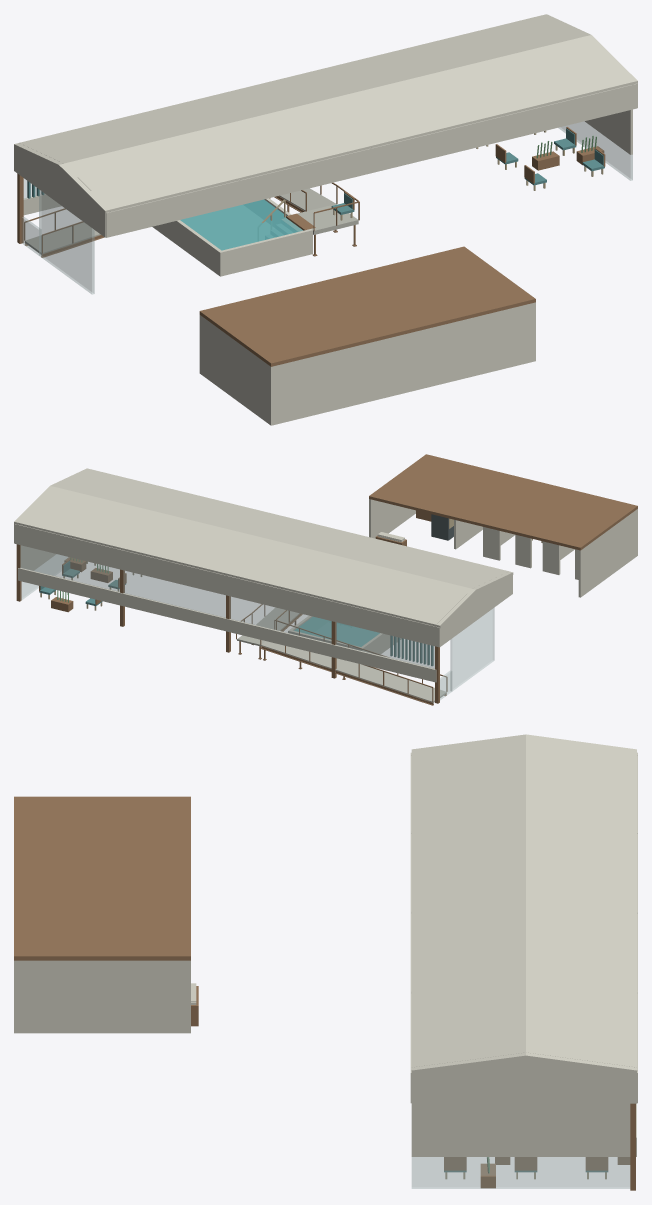
The model's file is VIP_QUIET_FITTED_r006.glb.
3 views of the same model, one above another, from view 1: azimuth 30°, elevation 25°; view 2: azimuth 150°, elevation 25°; view 3: azimuth 270°, elevation 25° (orthographic). The views are drawn at different scales.
Visible parts, largest first — view 1: F006__G2VIP_QUIET_RoofPanel1, F006__G2VIP_QUIET_AftRoof, F006__G2VIP_QUIET_RoofPanel0, F006__G2VIP_QUIET_AftBack, QUIET_F006_Weather_Aft, F006__G2VIP_QUIET_AftWest, QUIET_F006_InnerWallBody, QUIET_F006_Water_Illustrative, QUIET_F006_TankAft, QUIET_F006_Weather_Side-1Aft, QUIET_F006_OuterWallLower, QUIET_F006_TankWest (+5 smaller); view 2: F006__G2VIP_QUIET_RoofPanel0, F006__G2VIP_QUIET_AftRoof, F006__G2VIP_QUIET_RoofPanel1, F006__G2VIP_QUIET_ForeClerestory, QUIET_F006_Weather_Fore, F006__G2VIP_QUIET_ForePlinth, F006__G2VIP_QUIET_AftWest, QUIET_F006_InnerWallBody, QUIET_F006_RampLeg1, QUIET_F006_Water_Illustrative, F006__G2VIP_QUIET_AftEast, QUIET_F006_Weather_Side-1Aft (+10 smaller); view 3: F006__G2VIP_QUIET_RoofPanel1, F006__G2VIP_QUIET_RoofPanel0, F006__G2VIP_QUIET_AftRoof, F006__G2VIP_QUIET_AftEast, F006__G2VIP_QUIET_OuterWall, QUIET_F006_OuterWallLower, QUIET_F006_Weather_Side1Aft, QUIET_F006_Weather_Side1Fore, QUIET_F006_EaveCap1Aft, QUIET_F006_EaveCap1Fore, QUIET_F006_Weather_Aft.
Boxes of the visible parts, x1,y1,x2,y2 form: F006__G2VIP_QUIET_RoofPanel1: (64,36,632,211); F006__G2VIP_QUIET_AftRoof: (199,246,535,366); F006__G2VIP_QUIET_RoofPanel0: (19,15,585,163); F006__G2VIP_QUIET_AftBack: (269,302,535,425); QUIET_F006_Weather_Aft: (106,83,637,237); F006__G2VIP_QUIET_AftWest: (199,315,269,424); QUIET_F006_InnerWallBody: (39,189,94,294); QUIET_F006_Water_Illustrative: (180,199,302,250); QUIET_F006_TankAft: (218,229,312,275); QUIET_F006_Weather_Side-1Aft: (59,168,105,237); QUIET_F006_OuterWallLower: (558,121,632,180); QUIET_F006_TankWest: (154,220,221,273); F006__G2VIP_QUIET_RoofPanel0: (18,487,471,626); F006__G2VIP_QUIET_AftRoof: (369,454,637,550); F006__G2VIP_QUIET_RoofPanel1: (54,469,508,588); F006__G2VIP_QUIET_ForeClerestory: (20,545,434,668); QUIET_F006_Weather_Fore: (14,524,439,647); F006__G2VIP_QUIET_ForePlinth: (18,568,436,682); F006__G2VIP_QUIET_AftWest: (578,509,636,597); QUIET_F006_InnerWallBody: (450,607,494,691); QUIET_F006_RampLeg1: (261,641,446,702); QUIET_F006_Water_Illustrative: (294,616,379,646); F006__G2VIP_QUIET_AftEast: (369,499,415,538); QUIET_F006_Weather_Side-1Aft: (476,575,512,620); F006__G2VIP_QUIET_RoofPanel1: (411,737,525,1067); F006__G2VIP_QUIET_RoofPanel0: (526,737,636,1067); F006__G2VIP_QUIET_AftRoof: (14,796,190,960); F006__G2VIP_QUIET_AftEast: (17,960,190,1033); F006__G2VIP_QUIET_OuterWall: (411,1103,630,1156); QUIET_F006_OuterWallLower: (411,1157,630,1188); QUIET_F006_Weather_Side1Aft: (411,1059,525,1103); QUIET_F006_Weather_Side1Fore: (526,1059,636,1103); QUIET_F006_EaveCap1Aft: (411,1052,525,1074); QUIET_F006_EaveCap1Fore: (526,1052,636,1074); QUIET_F006_Weather_Aft: (410,752,411,1103).
Bounding box in the file's own units: 32.2 × 6.65 × 26.44.
